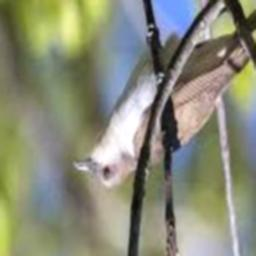Cuckoo: (74, 0, 256, 189)
